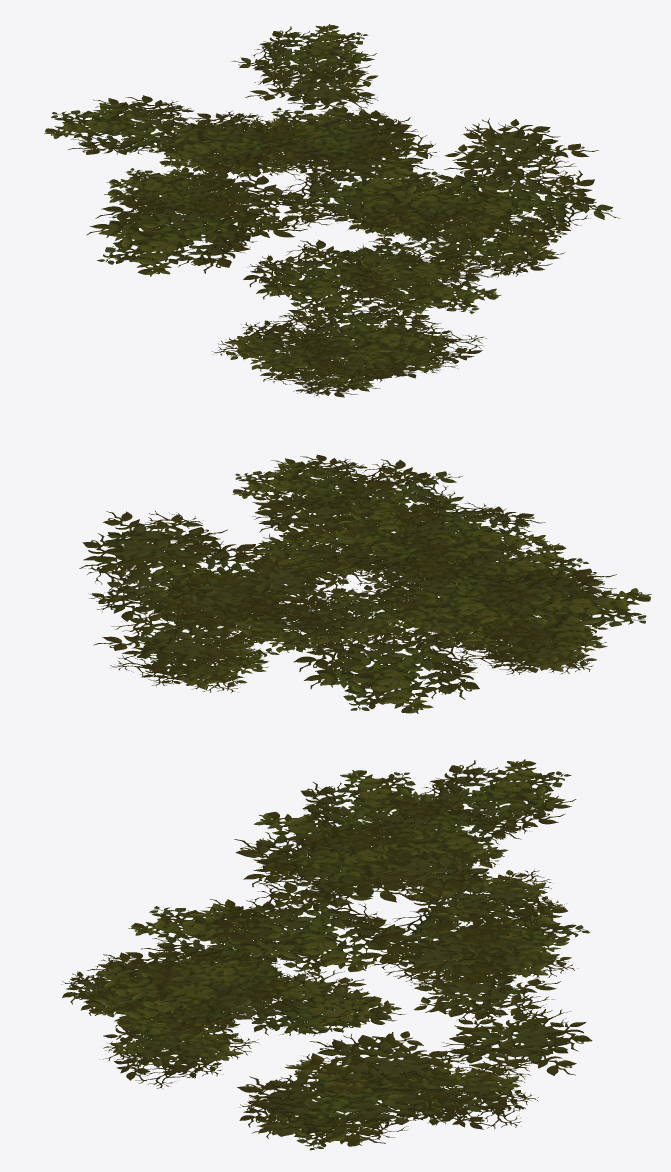
File: Wetlands_TreeTops_01.fbx
The picture shows the model from 3 angles, top to bottom: view 1: azimuth 30°, elevation 25°; view 2: azimuth 150°, elevation 25°; view 3: azimuth 270°, elevation 25°; orthographic projection. The views are drawn at different scales.
Visible parts, largest first — view 1: Wetlands_TreeTops_01; view 2: Wetlands_TreeTops_01; view 3: Wetlands_TreeTops_01.
Part boxes in pixels (x1,y1,x2,y2): Wetlands_TreeTops_01: (44,24,620,397); Wetlands_TreeTops_01: (79,454,651,713); Wetlands_TreeTops_01: (61,759,592,1150).
Bounding box in the file's own units: 10.27 × 3.5 × 8.59.
1 material, 1 textured.
